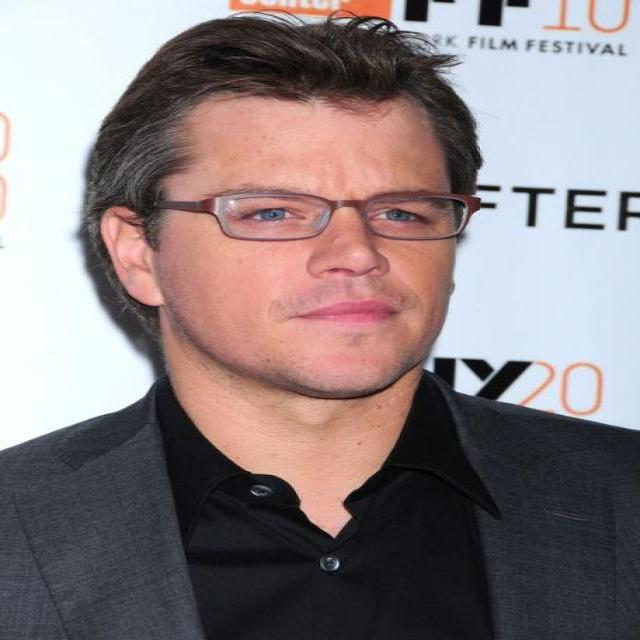glasses: (153, 193, 484, 241)
